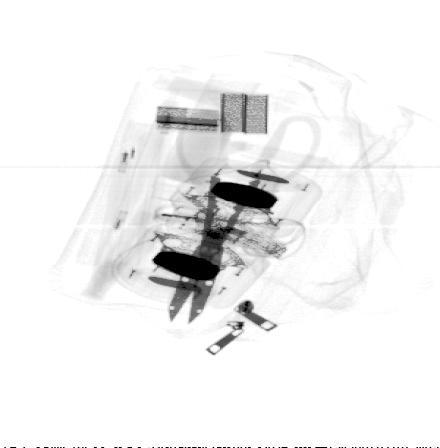Scissors: (170, 107, 323, 325)
